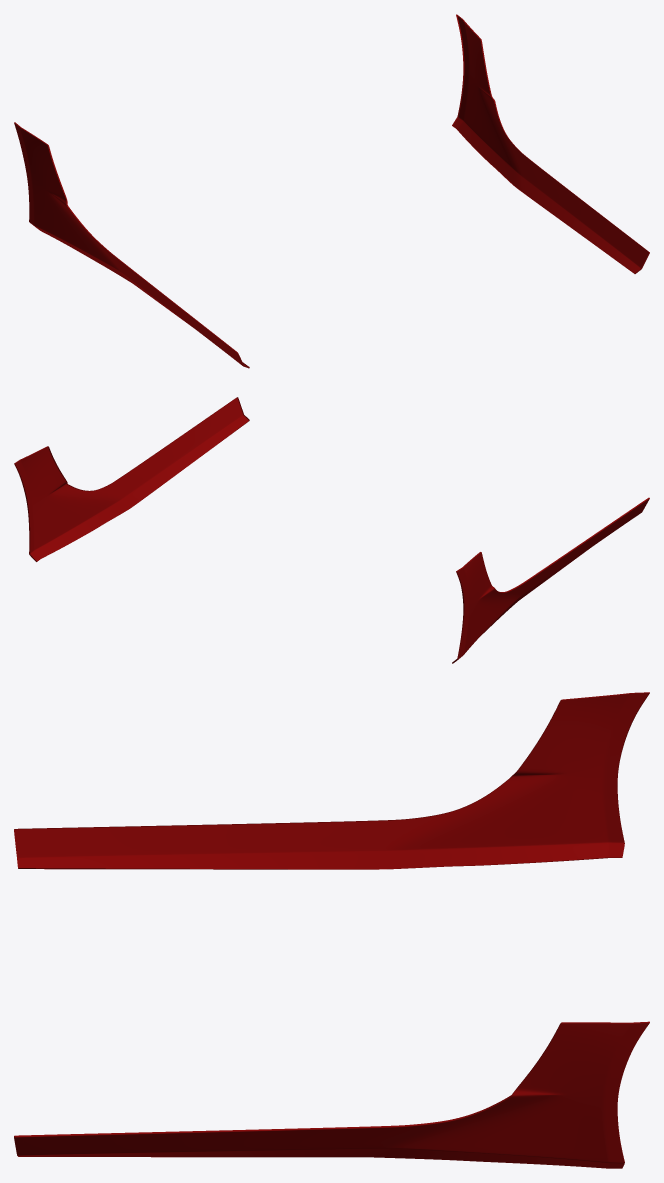
The model's file is c7sideskirts.glb.
3 renders of one model, top to bottom at view 1: azimuth 30°, elevation 25°; view 2: azimuth 150°, elevation 25°; view 3: azimuth 270°, elevation 25°, orthographic. The views are drawn at different scales.
Visible parts, largest first — view 1: Side_Skirt_Crysal_Red_0; view 2: Side_Skirt_Crysal_Red_0; view 3: Side_Skirt_Crysal_Red_0.
Boxes of the visible parts, <box> form: Side_Skirt_Crysal_Red_0: <box>14,14,649,368</box>; Side_Skirt_Crysal_Red_0: <box>14,397,649,663</box>; Side_Skirt_Crysal_Red_0: <box>14,692,649,1168</box>.
Size of the model in its own units: 1.87 by 0.4131 by 1.52.
